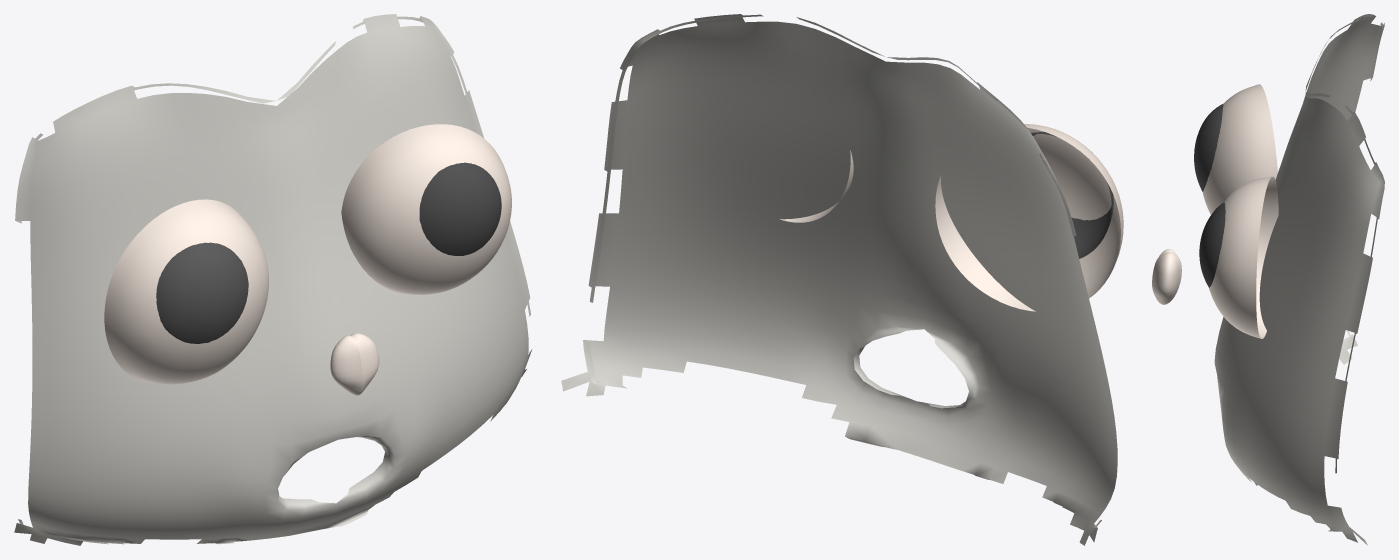
Rendered from zone2-singe-white.gltf.
The picture shows the model from 3 angles, left to right: view 1: azimuth 30°, elevation 25°; view 2: azimuth 150°, elevation 25°; view 3: azimuth 270°, elevation 25°; orthographic projection. The views are drawn at different scales.
Parts seen in each view (by area): view 1: Face - nez; view 2: Face - nez; view 3: Face - nez.
Boxes of the visible parts, bbox=[...] form: Face - nez: bbox=[14, 14, 532, 545]; Face - nez: bbox=[561, 14, 1123, 545]; Face - nez: bbox=[1152, 14, 1384, 545].
Bounding box in the file's own units: 1.82 × 1.49 × 0.7858.
